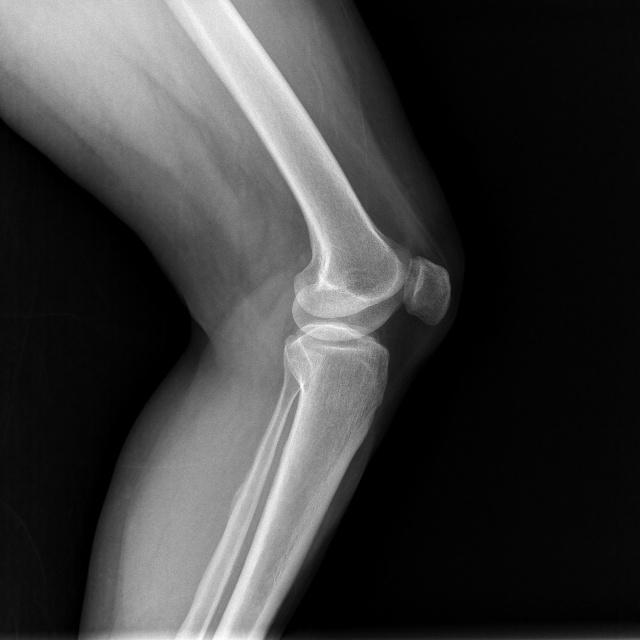Knee: (282, 249, 451, 406)
